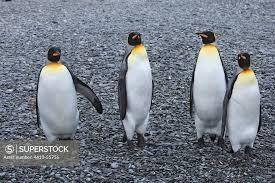king: (107, 22, 165, 156), (216, 37, 269, 177), (32, 36, 94, 154), (182, 20, 234, 149)
